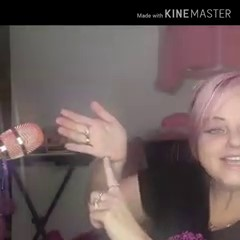T: (49, 98, 144, 237)
